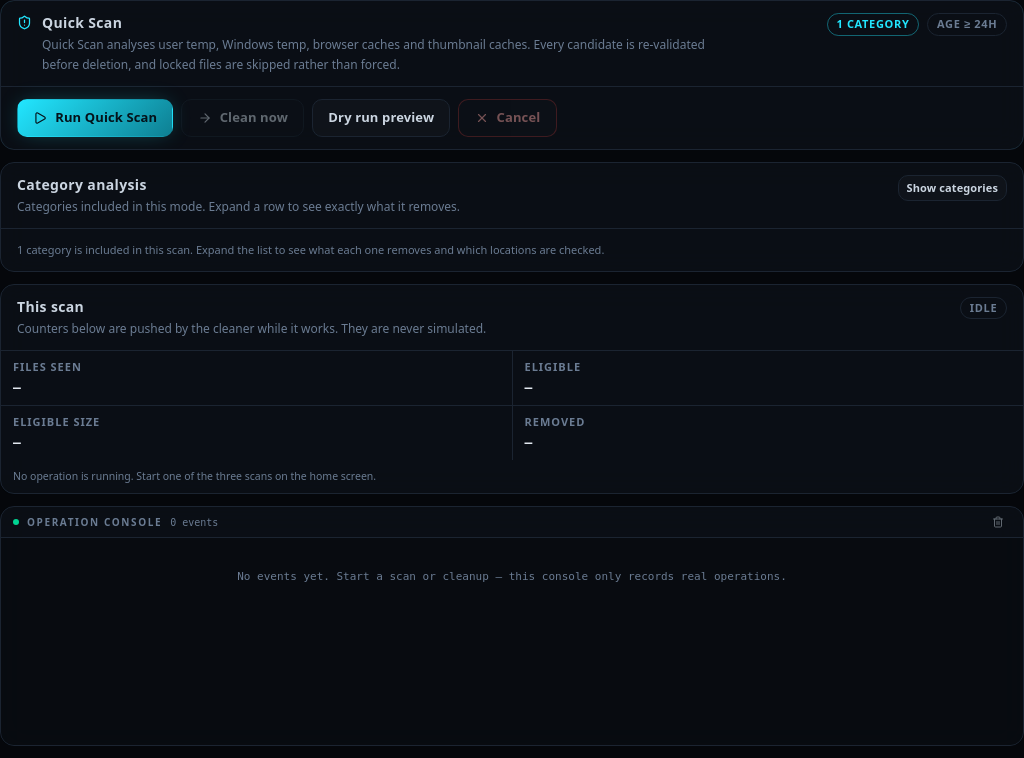
Scenario: Clean page flow › runs a scan, shows the real estimate, then cleans after confirmation
Click the button "Run Quick Scan".
click(95, 118)  # box [17,99,174,136]
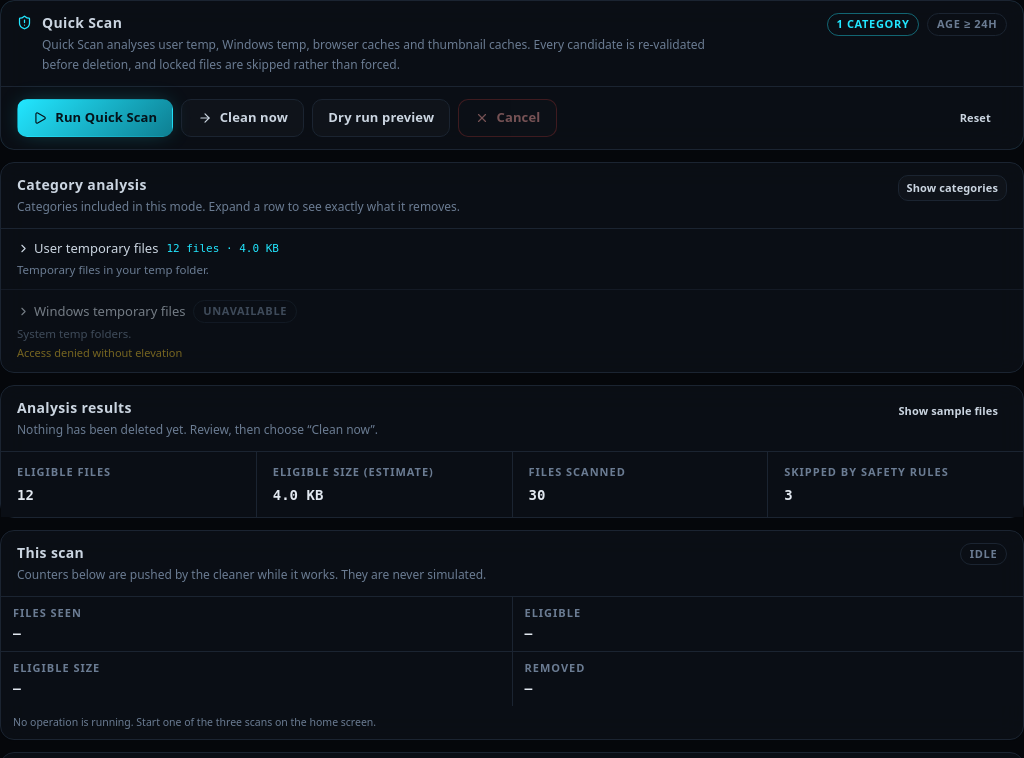
Expected: the heading "Analysis results" is shown, [17,398,132,417]
Expected: the text "4.0 KB" is shown, [273,487,323,503]
Expected: the text "Nothing has been deleted yet. Review, then choose “Clean now”." is shown, [17,420,378,439]
Cleaning requires confirmation through the dialog bridge.
Click the button "Clean now".
click(243, 118)  # box [182,99,304,136]
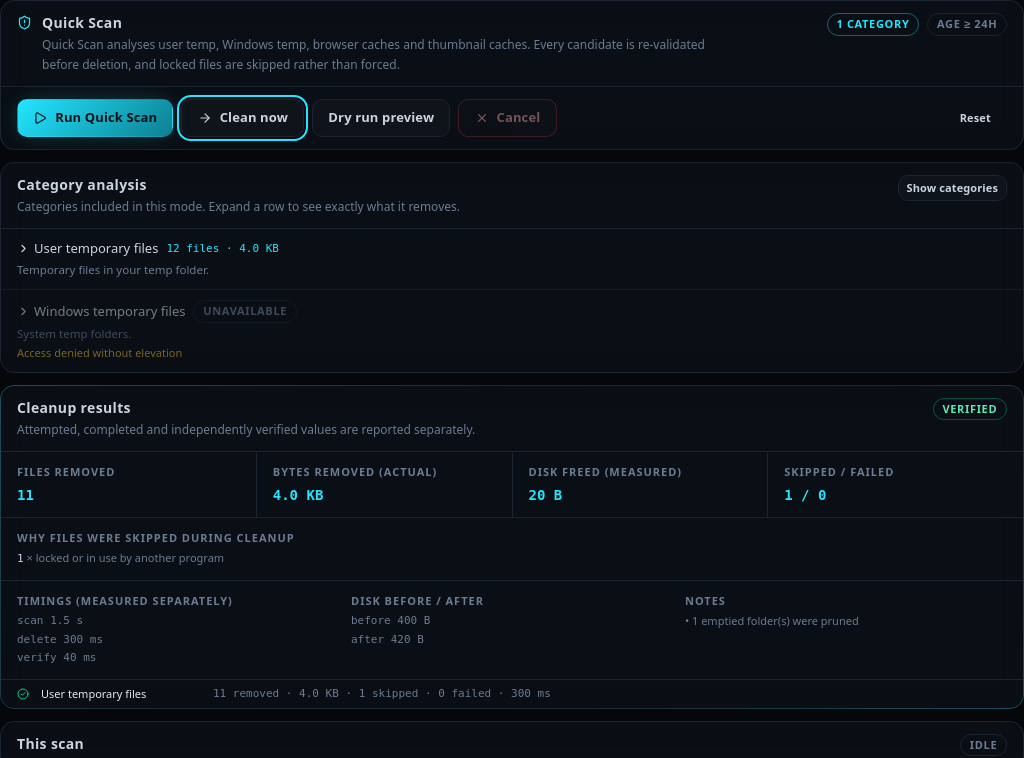
Expected: the text "4.0 KB" is shown, [273,487,323,503]
Expected: the heading "Cleanup results" is shown, [17,398,131,417]
Expected: the text "Disk freed (measured)" is shown, [528,464,682,479]
